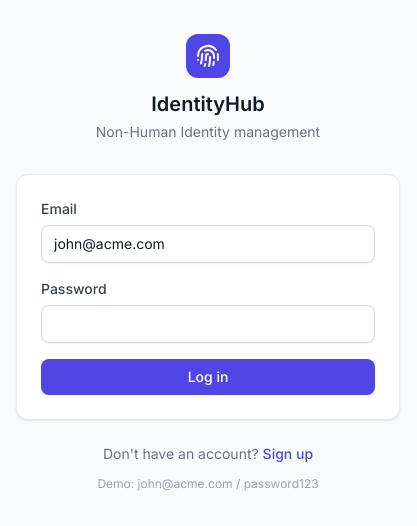
LoginPage › shows the server error message on failed login, and does not crash
In the password field labelled "Password": (208,324) [41,305,375,343], type "wrong-password"
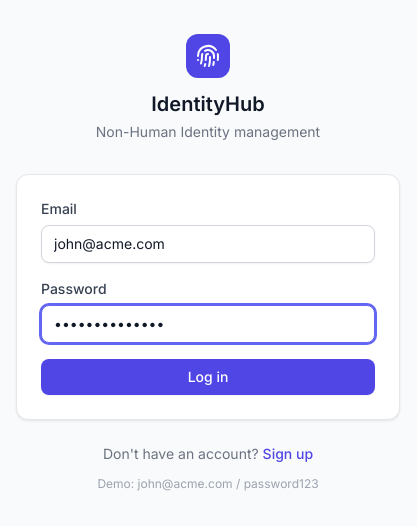
Click the button "Log in": (208,377) [41,359,375,395]
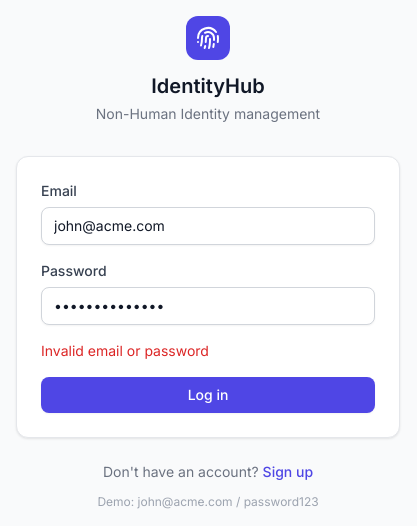
Now the text "Invalid email or password" is shown, box [41,342,209,359]
